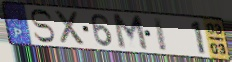1: (190, 20, 207, 55)
6: (90, 13, 115, 48)
I: (152, 16, 169, 53)
M: (111, 13, 150, 53)
S: (28, 8, 57, 44)
X: (53, 9, 87, 47)
